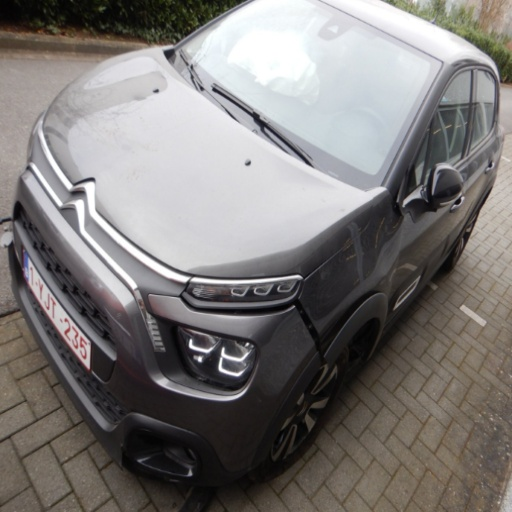dent: (375, 202, 403, 271)
